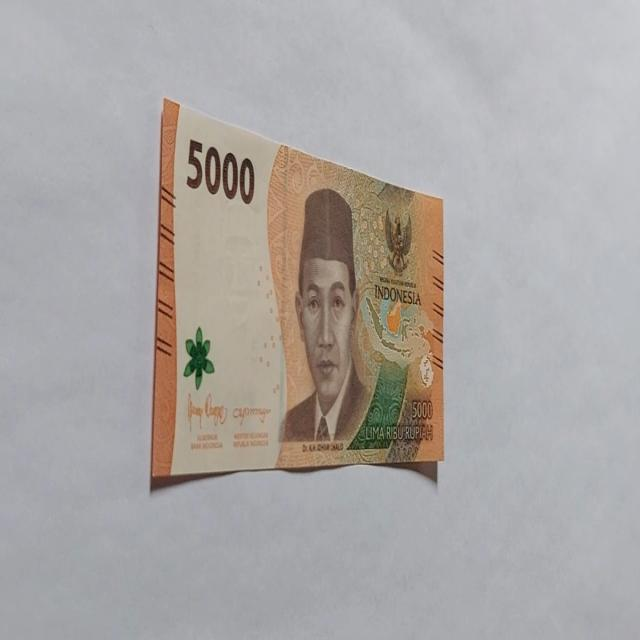lima ribu rupiah: (149, 100, 446, 495), (278, 186, 372, 447)
